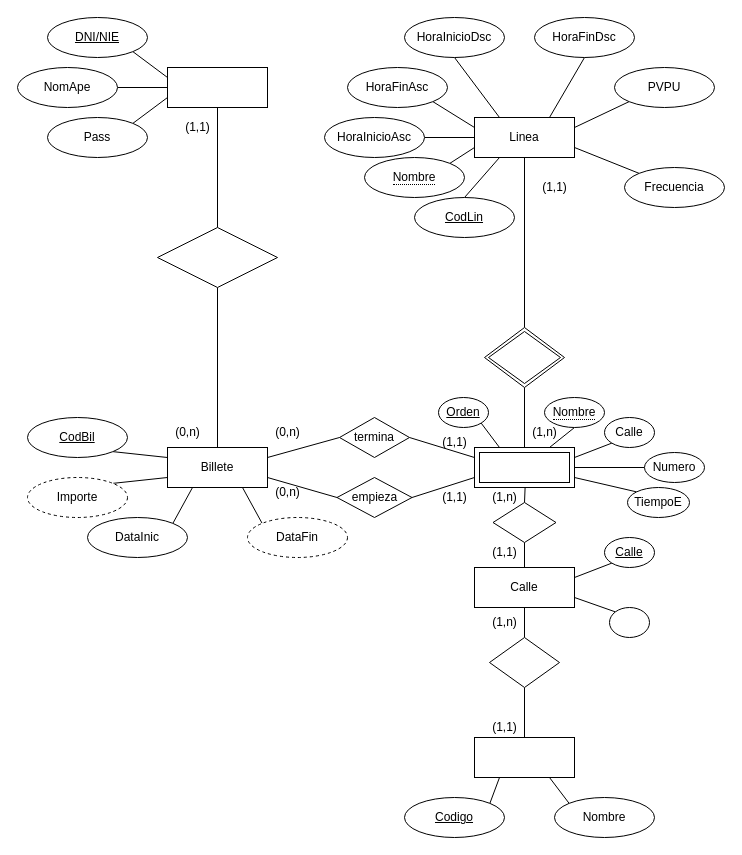
Some shapes in this 742 by 855 pixel diagram are drawn without their labels. Each missing label, with the box of its shape:
Cliente: (166, 66, 268, 108)
compra: (156, 226, 278, 288)
CP: (608, 606, 650, 638)
esta: (492, 502, 556, 542)
ID incluye: (484, 326, 564, 388)
Municio: (474, 736, 574, 778)
Parada: (474, 446, 574, 488)
se localiza: (488, 636, 560, 688)
